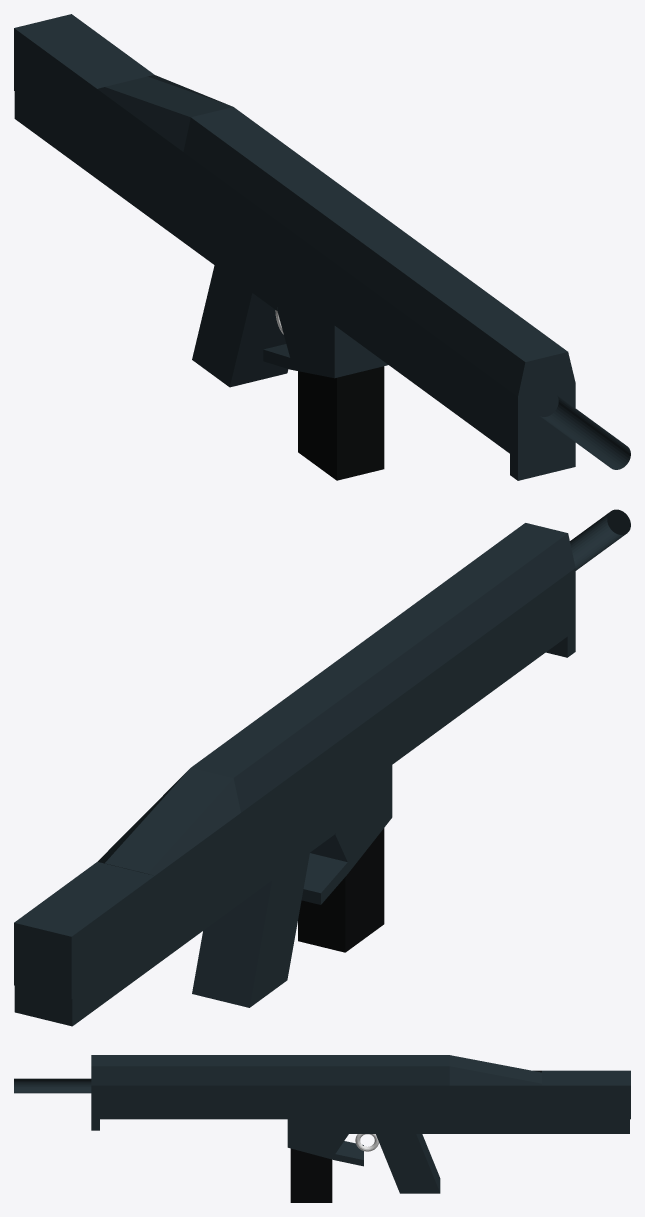
File: minimaPhantomBudget.fbx
3 renders of one model, top to bottom at view 1: azimuth 30°, elevation 25°; view 2: azimuth 150°, elevation 25°; view 3: azimuth 270°, elevation 25°, orthographic. The views are drawn at different scales.
Visible parts, largest first — view 1: Gun, mag; view 2: Gun, mag; view 3: Gun, mag, Torus.
Boxes of the visible parts, <box> form: Gun: <box>14,14,630,480</box>; mag: <box>298,366,384,480</box>; Gun: <box>14,509,630,1026</box>; mag: <box>298,828,384,952</box>; Gun: <box>14,1055,630,1193</box>; mag: <box>290,1148,332,1202</box>; Torus: <box>355,1134,379,1151</box>.
Bounding box in the file's own units: 49.01 × 207 × 849.
